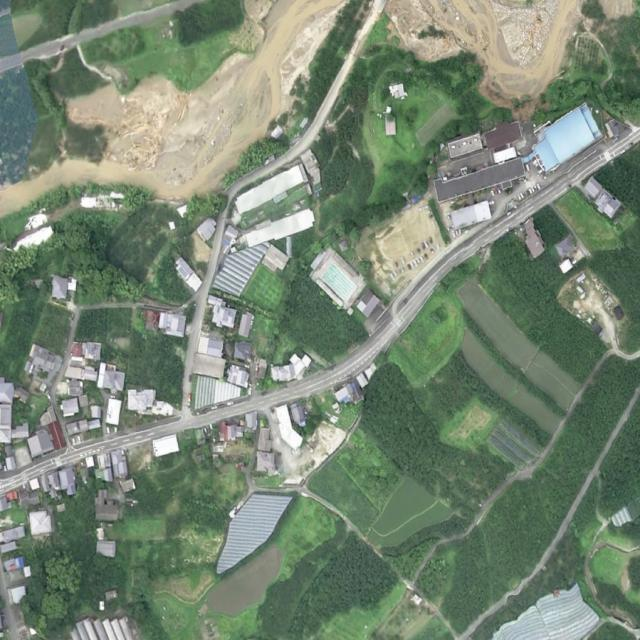landslide: (1, 0, 344, 212), (387, 0, 579, 104)
